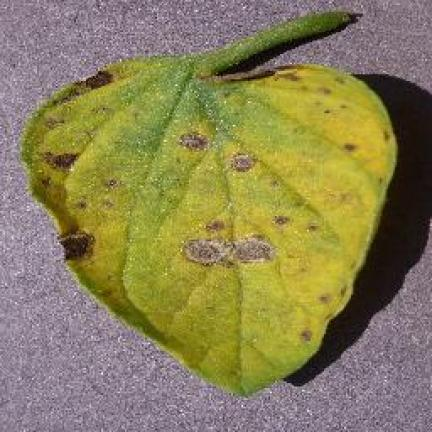disease: (22, 12, 397, 393)
leaf: (22, 61, 154, 265), (181, 216, 275, 265), (197, 66, 331, 94), (174, 116, 214, 157), (312, 73, 348, 94), (228, 147, 256, 172), (312, 101, 353, 116), (334, 137, 364, 155), (100, 174, 125, 191), (270, 213, 290, 226), (101, 197, 115, 209), (322, 312, 332, 322), (317, 294, 327, 304), (338, 287, 348, 297), (375, 176, 385, 186), (383, 128, 390, 142), (307, 223, 317, 231), (108, 256, 113, 268), (329, 81, 336, 89), (101, 270, 106, 275), (96, 209, 100, 214), (115, 143, 118, 148), (179, 162, 184, 165), (120, 211, 123, 216)
